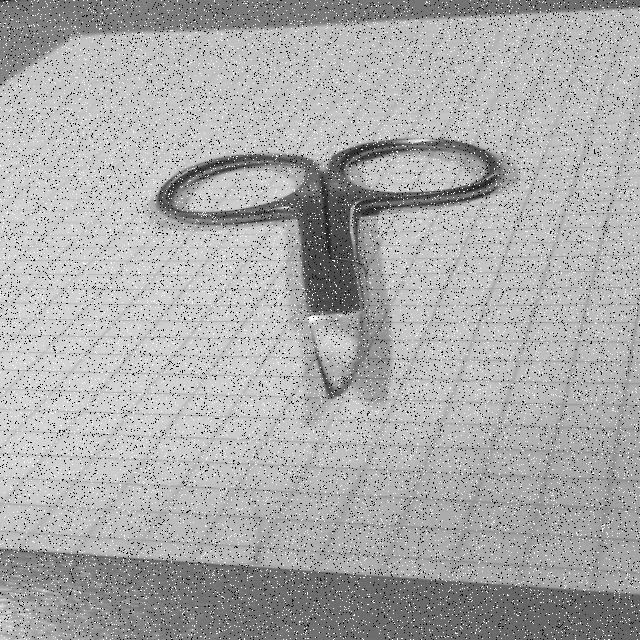scissors: (140, 132, 526, 405)
